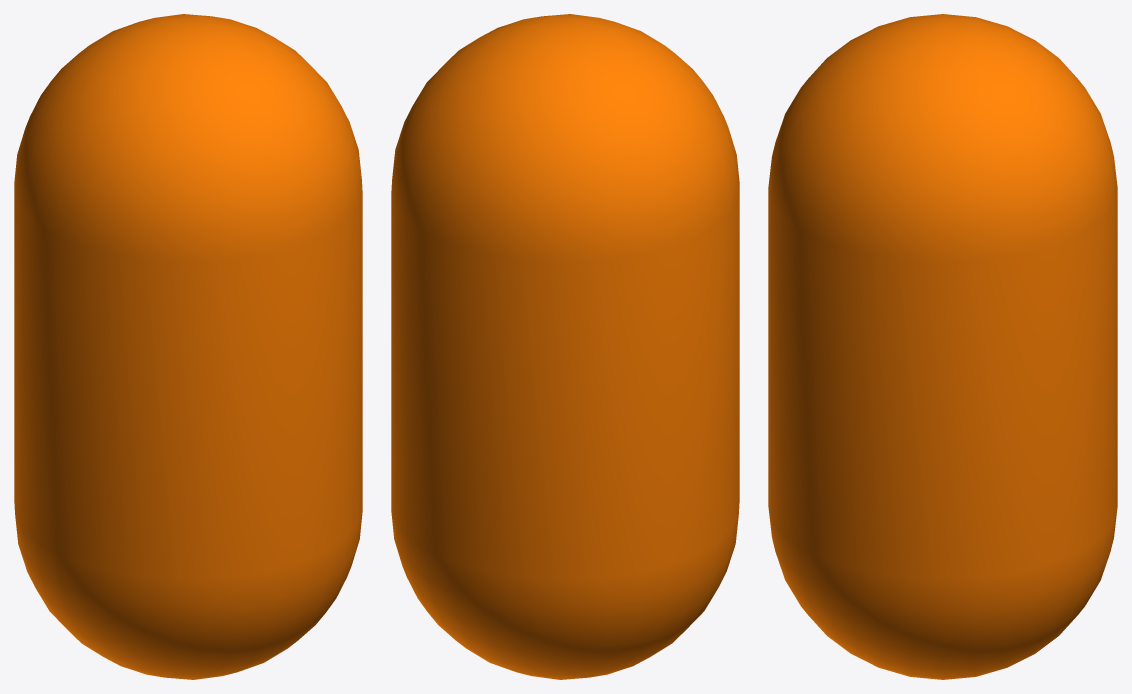
File: CharacterBody.obj
3 renders of one model, left to right at view 1: azimuth 30°, elevation 25°; view 2: azimuth 150°, elevation 25°; view 3: azimuth 270°, elevation 25°, orthographic.
Visible parts, largest first — view 1: CharacterBody; view 2: CharacterBody; view 3: CharacterBody.
Part boxes in pixels (<box>): CharacterBody: <box>14,14,362,679</box>; CharacterBody: <box>391,14,739,679</box>; CharacterBody: <box>768,14,1117,679</box>.
Size of the model in its own units: 1 by 2 by 1.
